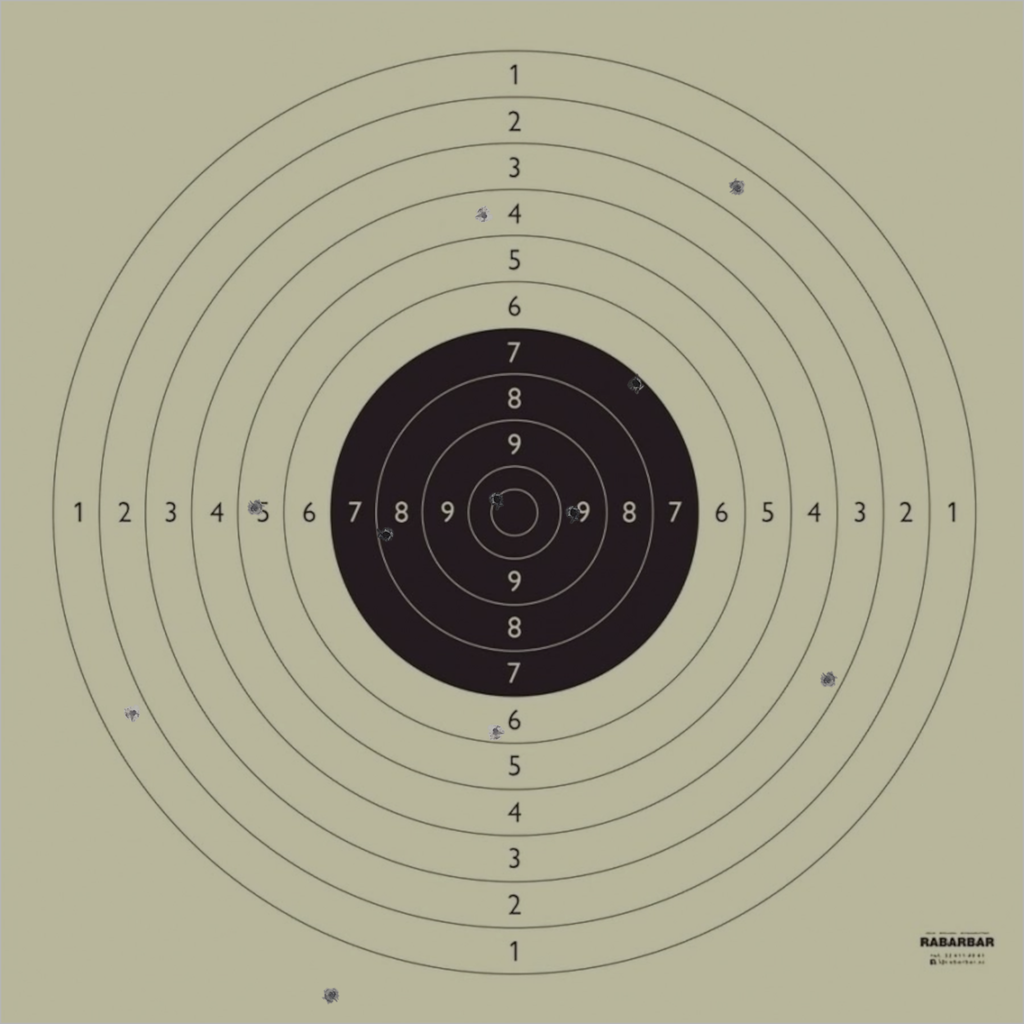0 punktow: (323, 986, 341, 1004)
1 punkt: (124, 704, 142, 723)
10 punktow: (488, 490, 506, 509)
2 punkty: (728, 179, 746, 197)
3 punkty: (818, 671, 837, 689)
4 punkty: (474, 206, 493, 225)
5 punktow: (246, 499, 264, 517)
6 punktow: (487, 722, 505, 741)
7 punktow: (627, 375, 646, 393)
8 punktow: (377, 525, 395, 544)
9 punktow: (564, 504, 582, 522)
